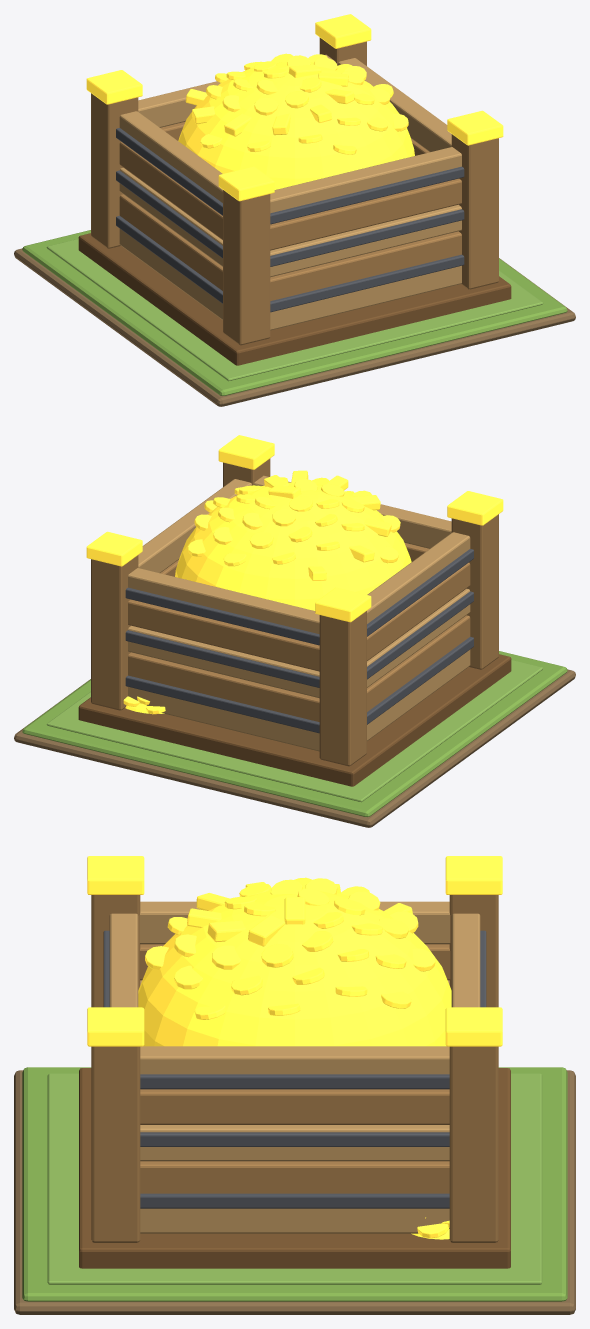
The model's file is gold_storage_lv2.glb.
The picture shows the model from 3 angles, top to bottom: view 1: azimuth 30°, elevation 25°; view 2: azimuth 150°, elevation 25°; view 3: azimuth 270°, elevation 25°; orthographic projection. The views are drawn at different scales.
Parts seen in each view (by area): view 1: GoldMoundBase, Platform, Base_Grass, Base_Inner, Post_-1_-1, Base_Dirt, Post_1_-1, FrontBackPlank_3_2, FrontBackPlank_1_2, Post_-1_1, FrontBackPlank_4_2, FrontBackPlank_0_2 (+19 smaller); view 2: GoldMoundBase, Platform, Base_Grass, Base_Inner, Post_-1_1, Base_Dirt, Post_1_1, FrontBackPlank_3_1, FrontBackPlank_1_1, Post_-1_-1, FrontBackPlank_4_1, FrontBackPlank_0_1 (+19 smaller); view 3: GoldMoundBase, Base_Grass, Base_Inner, Platform, Base_Dirt, SidePlank_3_1, SidePlank_1_1, Post_1_1, Post_1_-1, SidePlank_4_1, SidePlank_0_1, SidePlank_2_1 (+17 smaller).
Boxes of the visible parts, x1,y1,x2,y2 form: GoldMoundBase: [178, 62, 414, 189]; Platform: [78, 233, 511, 365]; Base_Grass: [22, 230, 567, 395]; Base_Inner: [46, 239, 543, 381]; Post_-1_-1: [223, 190, 270, 345]; Base_Dirt: [14, 248, 575, 406]; Post_1_-1: [451, 134, 498, 289]; FrontBackPlank_3_2: [270, 178, 461, 250]; FrontBackPlank_1_2: [270, 231, 461, 300]; Post_-1_1: [91, 93, 138, 248]; FrontBackPlank_4_2: [270, 147, 461, 213]; FrontBackPlank_0_2: [270, 265, 461, 330]; GoldMoundBase: [175, 482, 411, 610]; Platform: [78, 654, 511, 786]; Base_Grass: [22, 651, 567, 816]; Base_Inner: [46, 660, 543, 802]; Post_-1_1: [319, 611, 366, 766]; Base_Dirt: [14, 669, 575, 827]; Post_1_1: [91, 555, 138, 710]; FrontBackPlank_3_1: [128, 599, 319, 671]; FrontBackPlank_1_1: [128, 652, 319, 721]; Post_-1_-1: [451, 514, 498, 669]; FrontBackPlank_4_1: [128, 568, 319, 634]; FrontBackPlank_0_1: [128, 686, 319, 751]; GoldMoundBase: [138, 891, 451, 1046]; Base_Grass: [22, 1067, 567, 1301]; Base_Inner: [47, 1073, 542, 1284]; Platform: [79, 1068, 510, 1268]; Base_Dirt: [14, 1070, 575, 1314]; SidePlank_3_1: [140, 1089, 449, 1124]; SidePlank_1_1: [140, 1161, 449, 1193]; Post_1_1: [449, 1046, 498, 1242]; Post_1_-1: [91, 1046, 140, 1242]; SidePlank_4_1: [140, 1046, 449, 1074]; SidePlank_0_1: [140, 1208, 449, 1233]; SidePlank_2_1: [140, 1125, 449, 1161].
Size of the model in its own units: 2.76 by 1.63 by 2.76.
